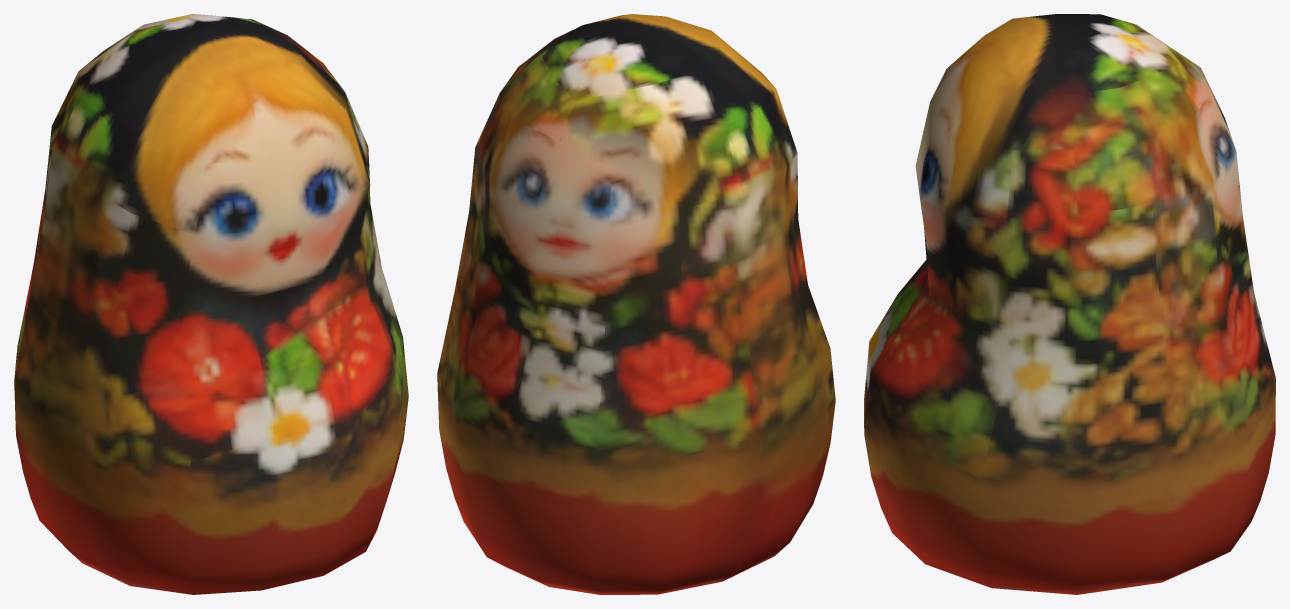
The model's file is MatroSicaFifth.fbx.
3 renders of one model, left to right at view 1: azimuth 30°, elevation 25°; view 2: azimuth 150°, elevation 25°; view 3: azimuth 270°, elevation 25°, orthographic.
Parts seen in each view (by area): view 1: FifthOne; view 2: FifthOne; view 3: FifthOne.
Boxes of the visible parts, <box> form: FifthOne: <box>14,14,408,594</box>; FifthOne: <box>437,14,835,594</box>; FifthOne: <box>864,14,1275,594</box>.
Bounding box in the file's own units: 10.19 × 14.39 × 10.67.
Materials: 1 (1 with a texture image).
